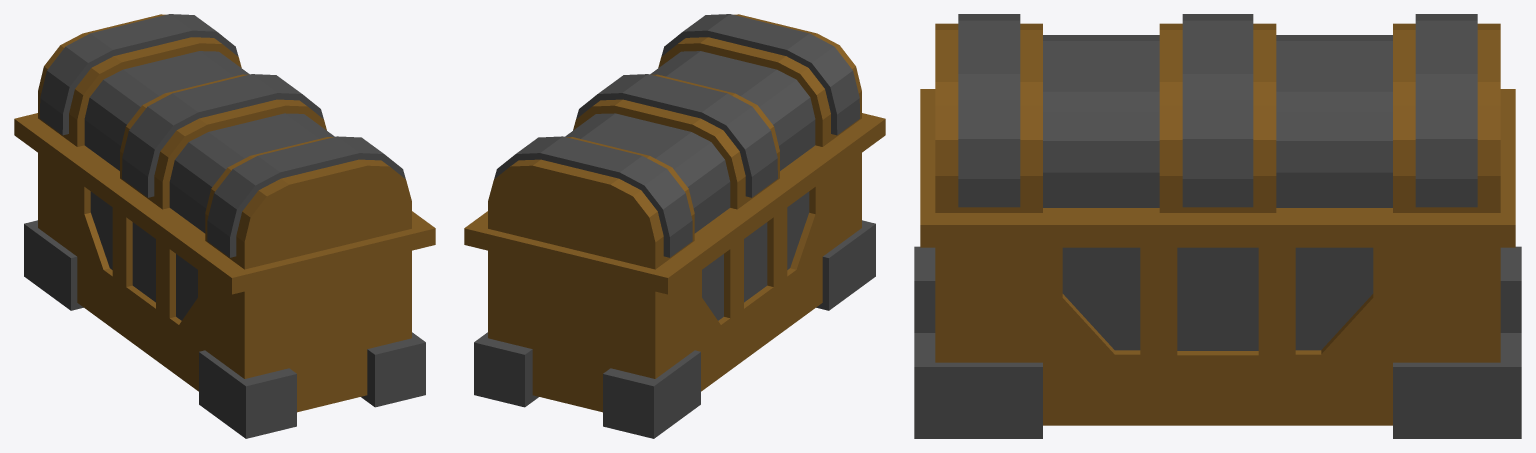
File: chest.fbx
3 views of the same model, side by side, from view 1: azimuth 30°, elevation 25°; view 2: azimuth 150°, elevation 25°; view 3: azimuth 270°, elevation 25° (orthographic). The views are drawn at different scales.
Parts seen in each view (by area): view 1: Cube; view 2: Cube; view 3: Cube.
Part boxes in pixels (x1=…): Cube: x1=14, y1=14, x2=435, y2=438; Cube: x1=464, y1=14, x2=885, y2=438; Cube: x1=914, y1=14, x2=1521, y2=438.
Bounding box in the file's own units: 243 × 277 × 459.
